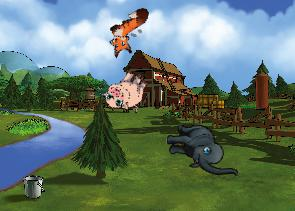elephant: (165, 121, 238, 181)
fox: (99, 4, 161, 61)
pig: (99, 63, 153, 118)
